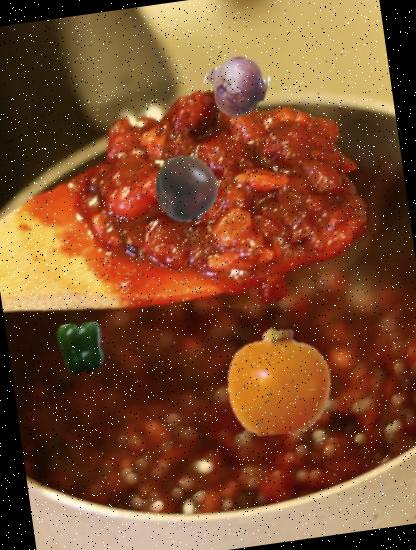Onion: (200, 51, 272, 123)
Pepper: (52, 318, 112, 378)
Physalis: (218, 319, 340, 441)
Tomato: (149, 150, 224, 226)
